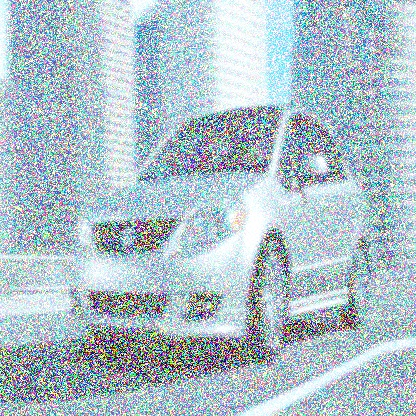Vehicle: (69, 103, 375, 363)
